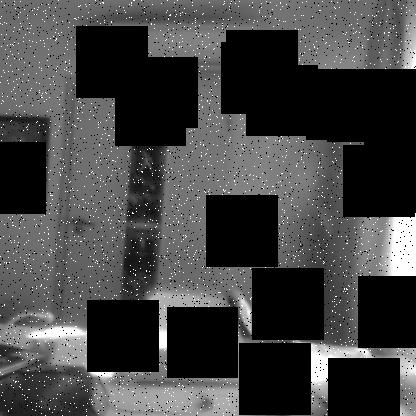Porte: (52, 75, 242, 394)
